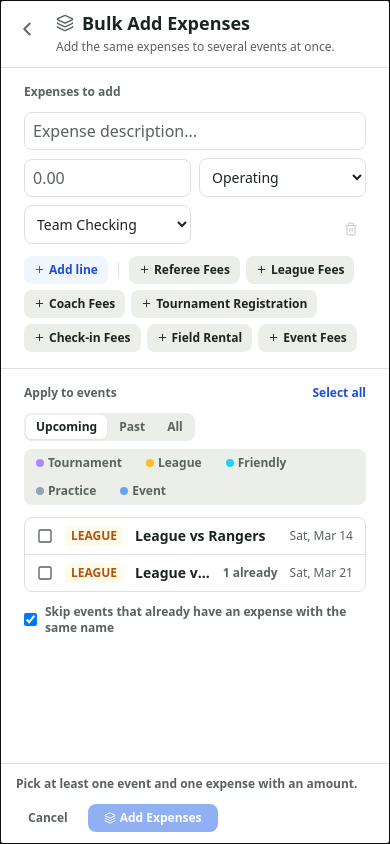
Scenario: BulkExpenseModal › lists upcoming events only until the scope is widened
Expected: the checkbox labelled "League League vs Rangers Sat, Mar 14" is shown, [25,518,365,554]
Expected: the checkbox labelled "Winter Friendly" is not shown
Click the button "Past" at (132, 426), box [109,414,155,438]
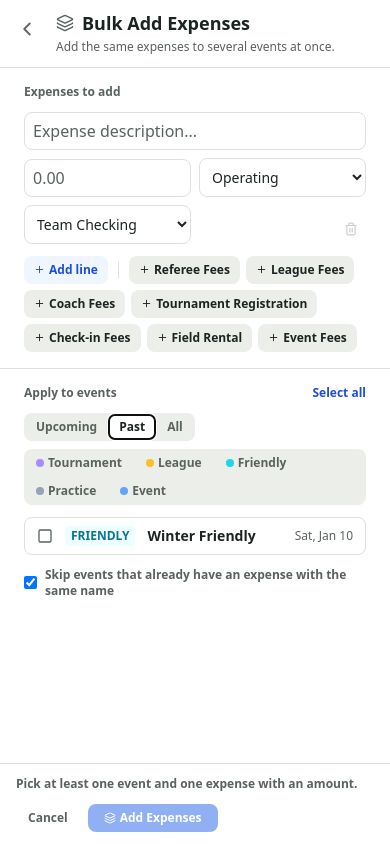
Now the checkbox labelled "Friendly Winter Friendly Sat, Jan 10" is shown, box [25,518,365,554]
